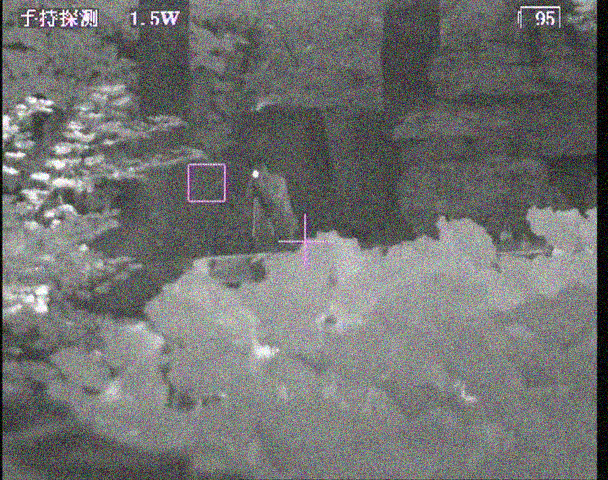my: (250, 170, 260, 179)
